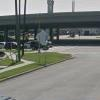Bridge: (5, 4, 97, 39)
